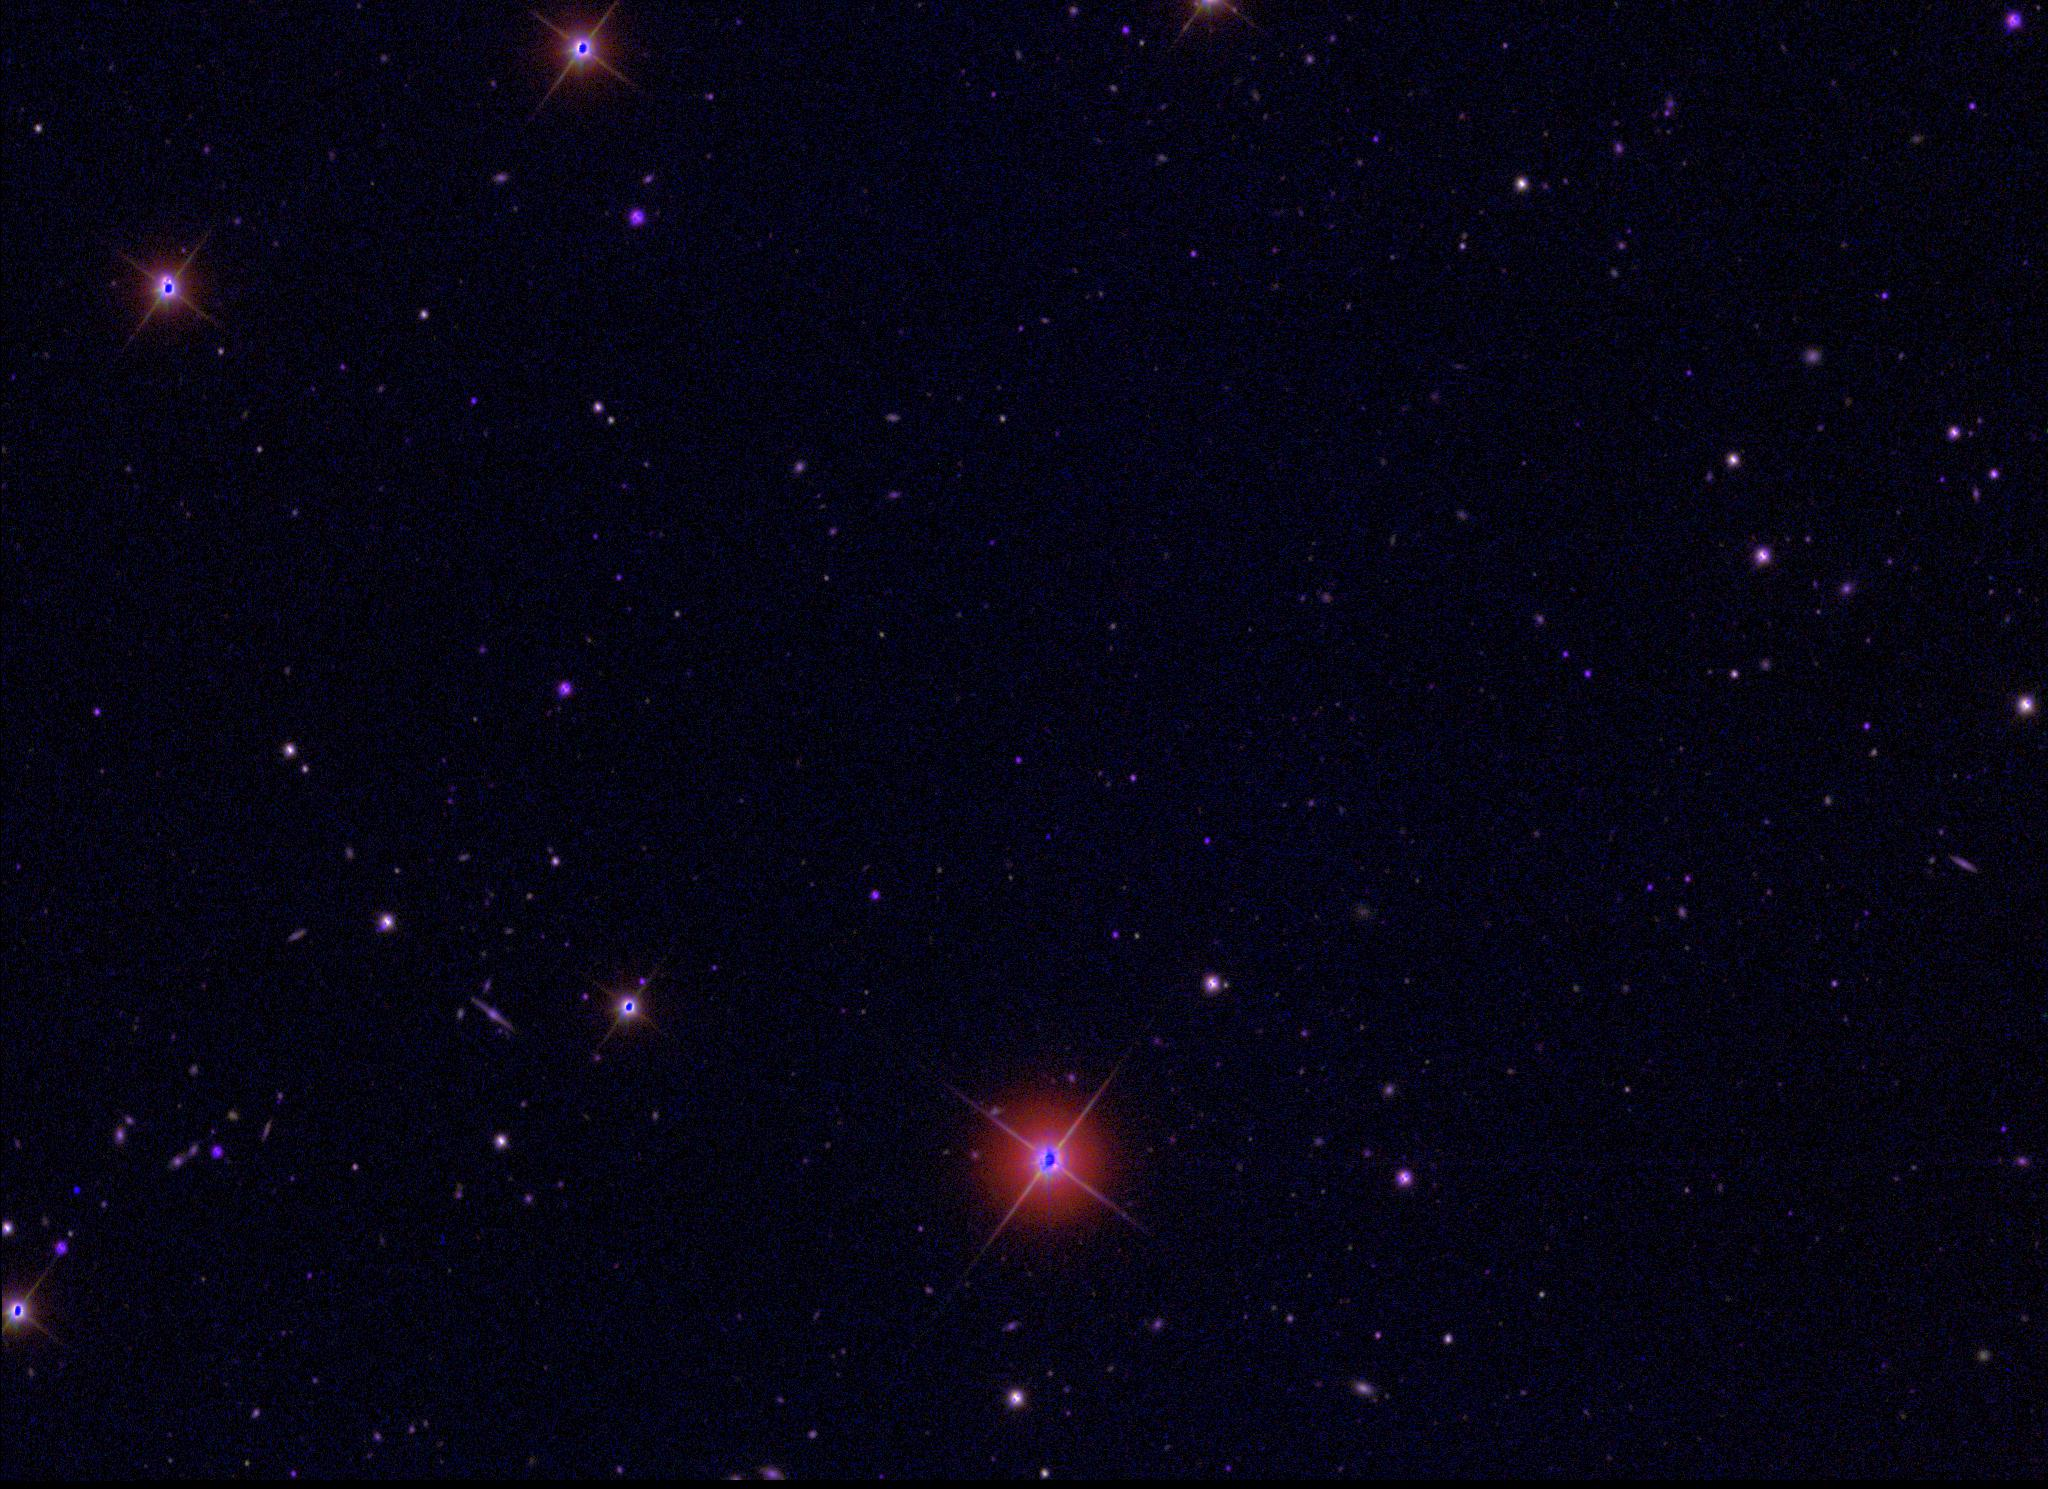L: (70, 1184, 84, 1196)
